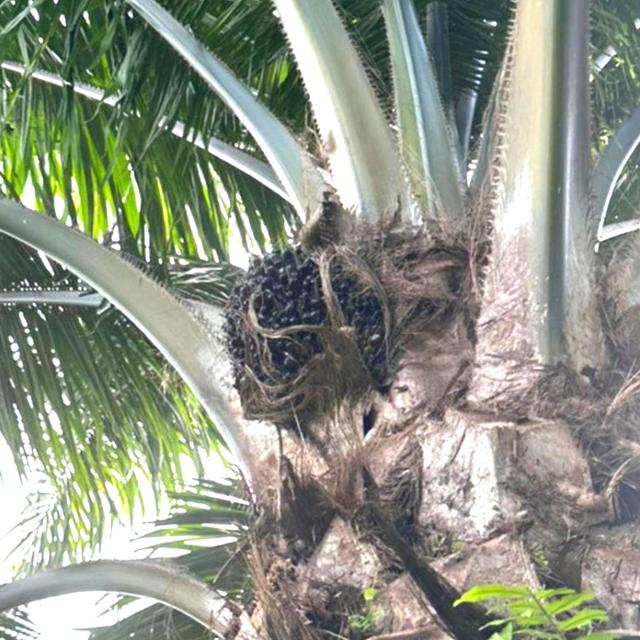unripe: (217, 229, 421, 433)
